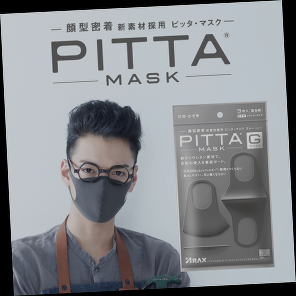with_mask: (71, 157, 136, 223)
